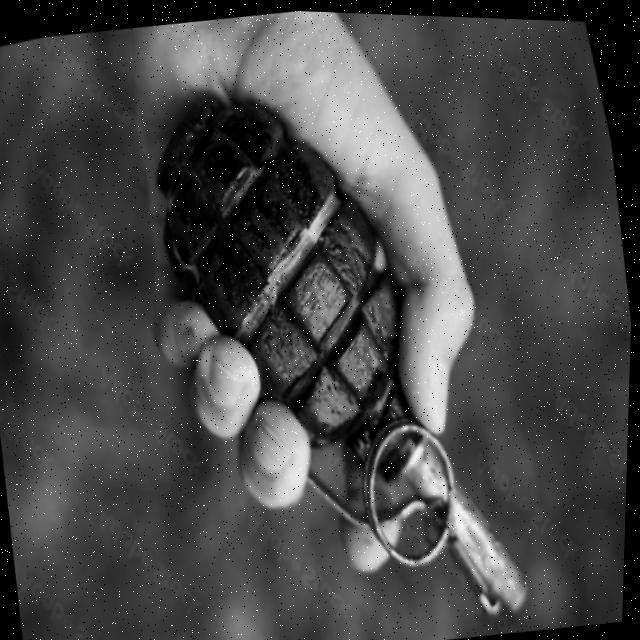grenade: (115, 33, 559, 640)
